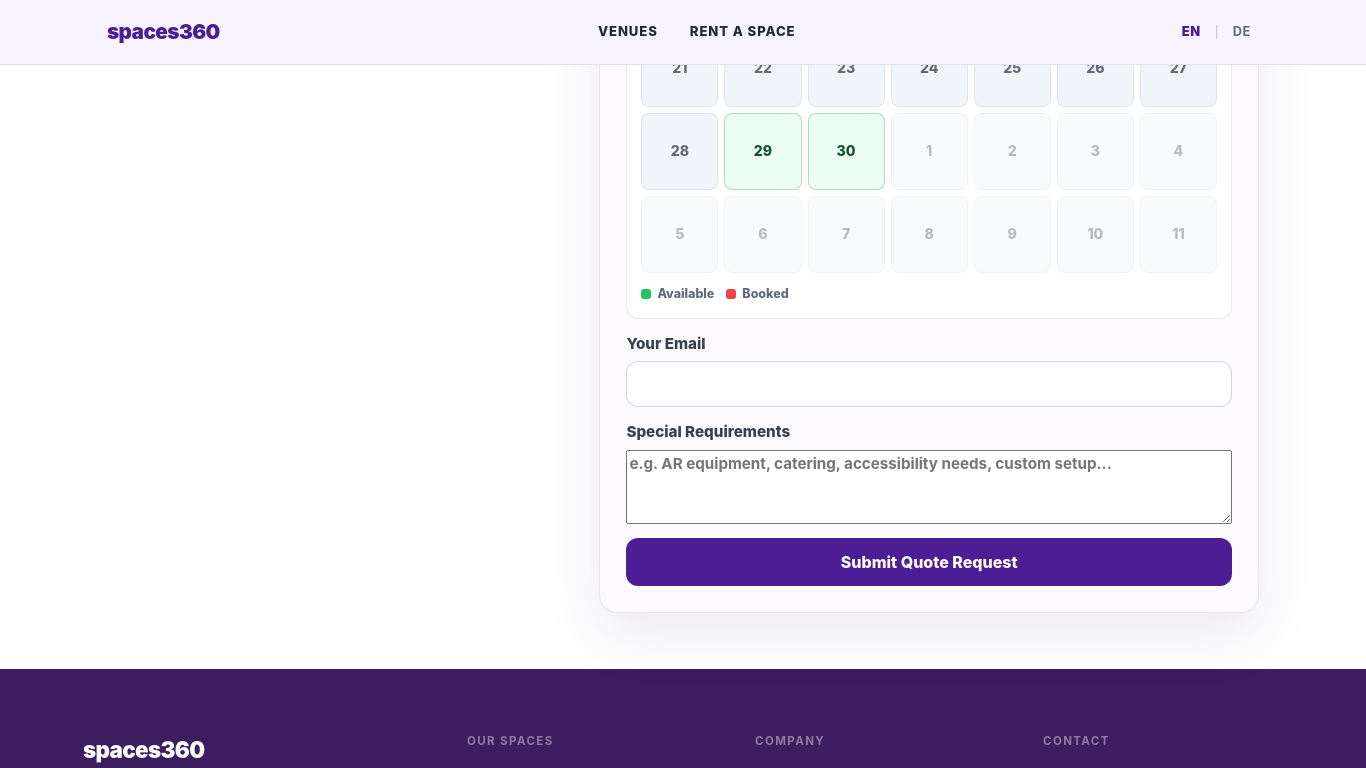
it: VenueDetailPage › validates the detail-page quote form before submitting
This screenshot has width=1366, height=768.
(page scrolled)
Type "planner@example.com" into the field labelled "Your Email" at (929, 384), box [626,361,1232,407]
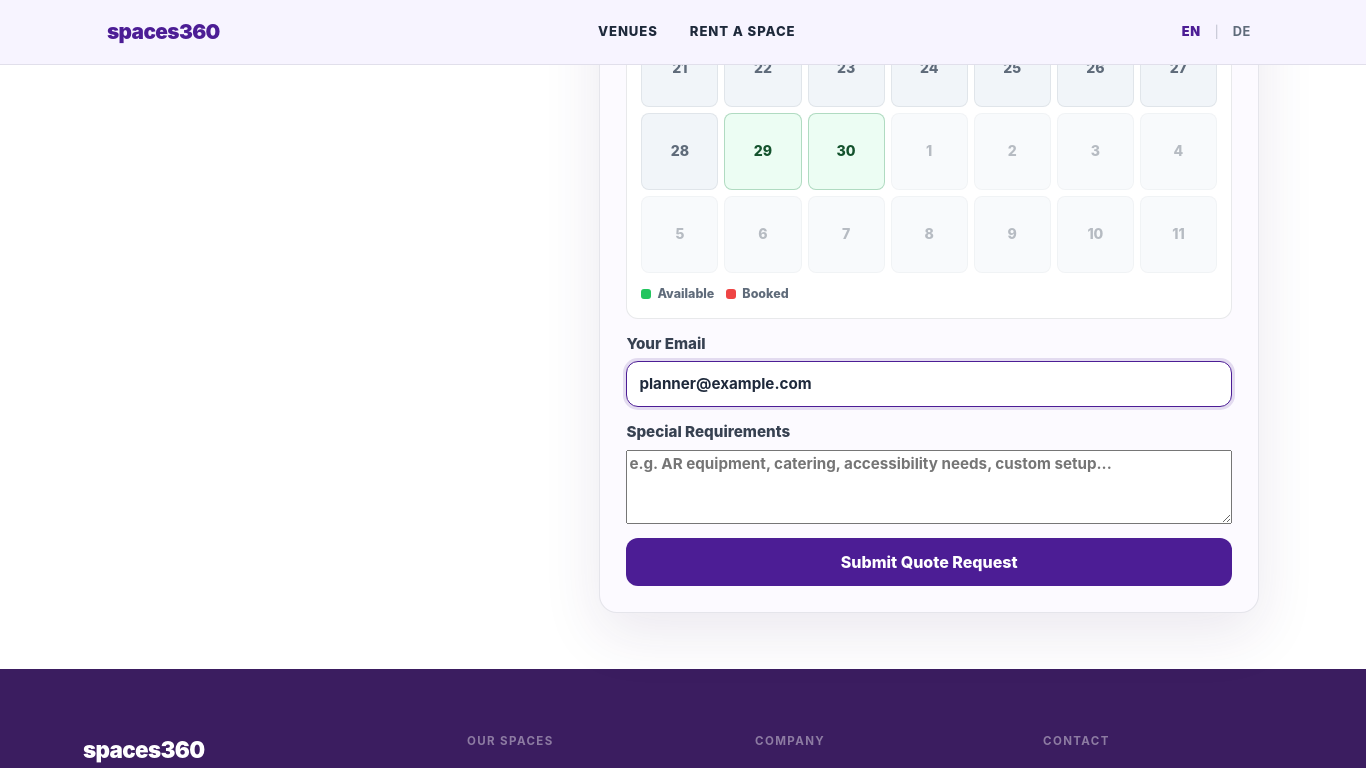
Click the button "Submit Quote Request" at (929, 562), box [626,538,1232,586]
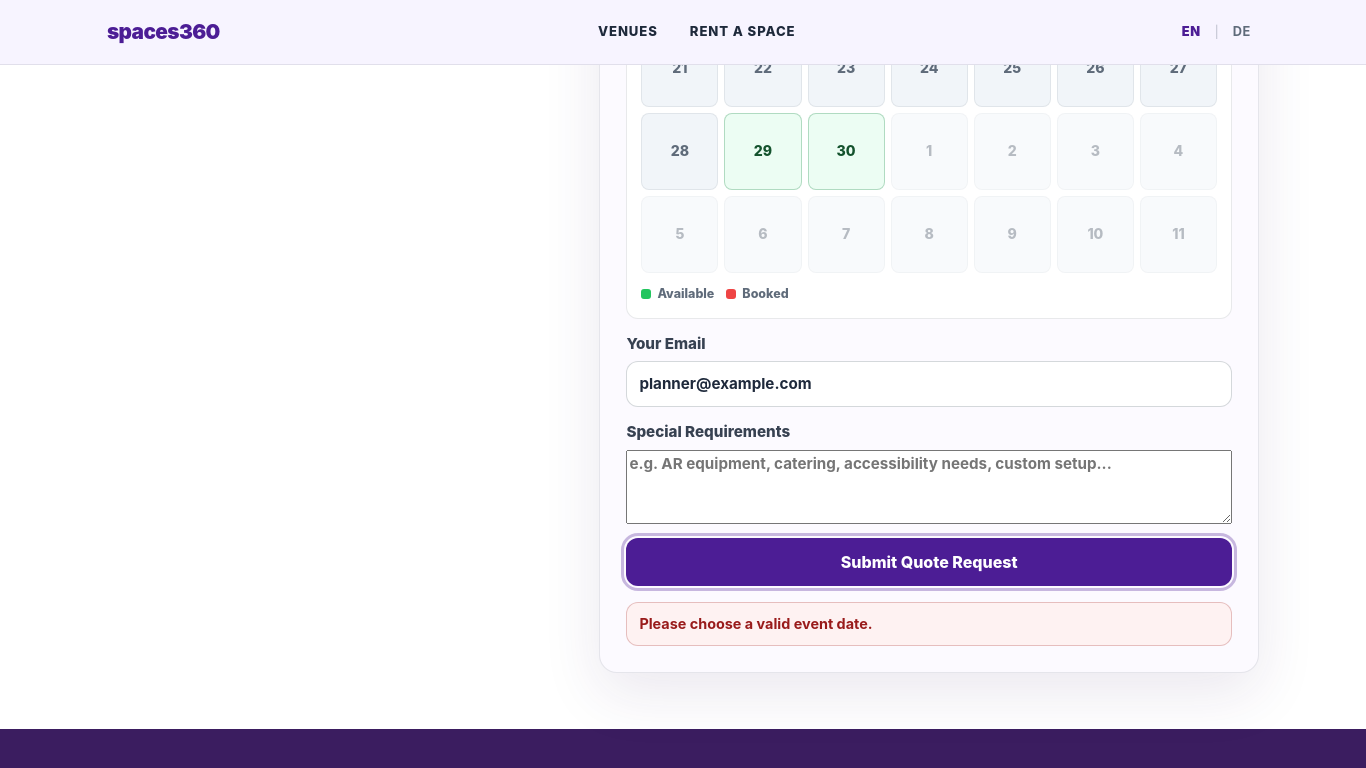
Now the text "Please choose a valid event date." is shown, box [626,602,1232,646]
